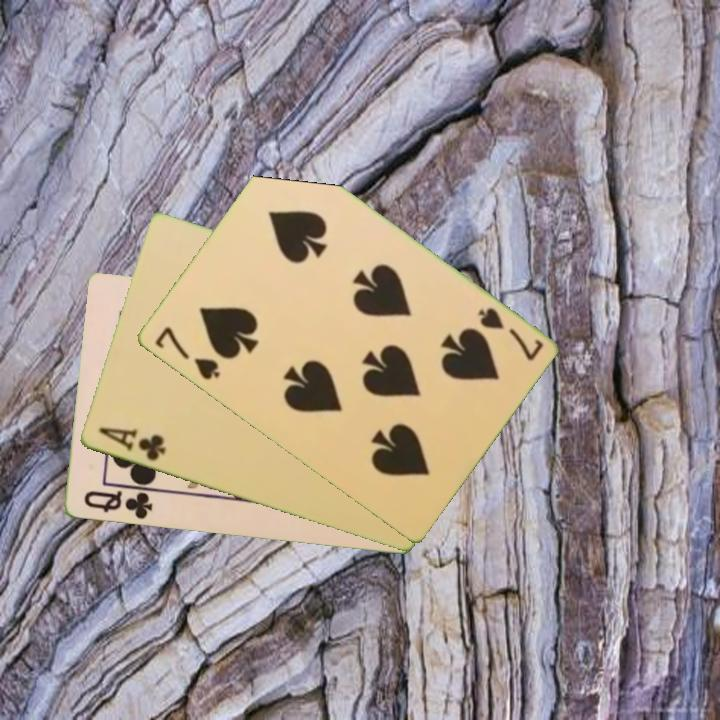7s: (473, 304, 546, 364), (151, 323, 223, 383)
Ac: (94, 424, 168, 464)
Qc: (80, 487, 155, 523)
